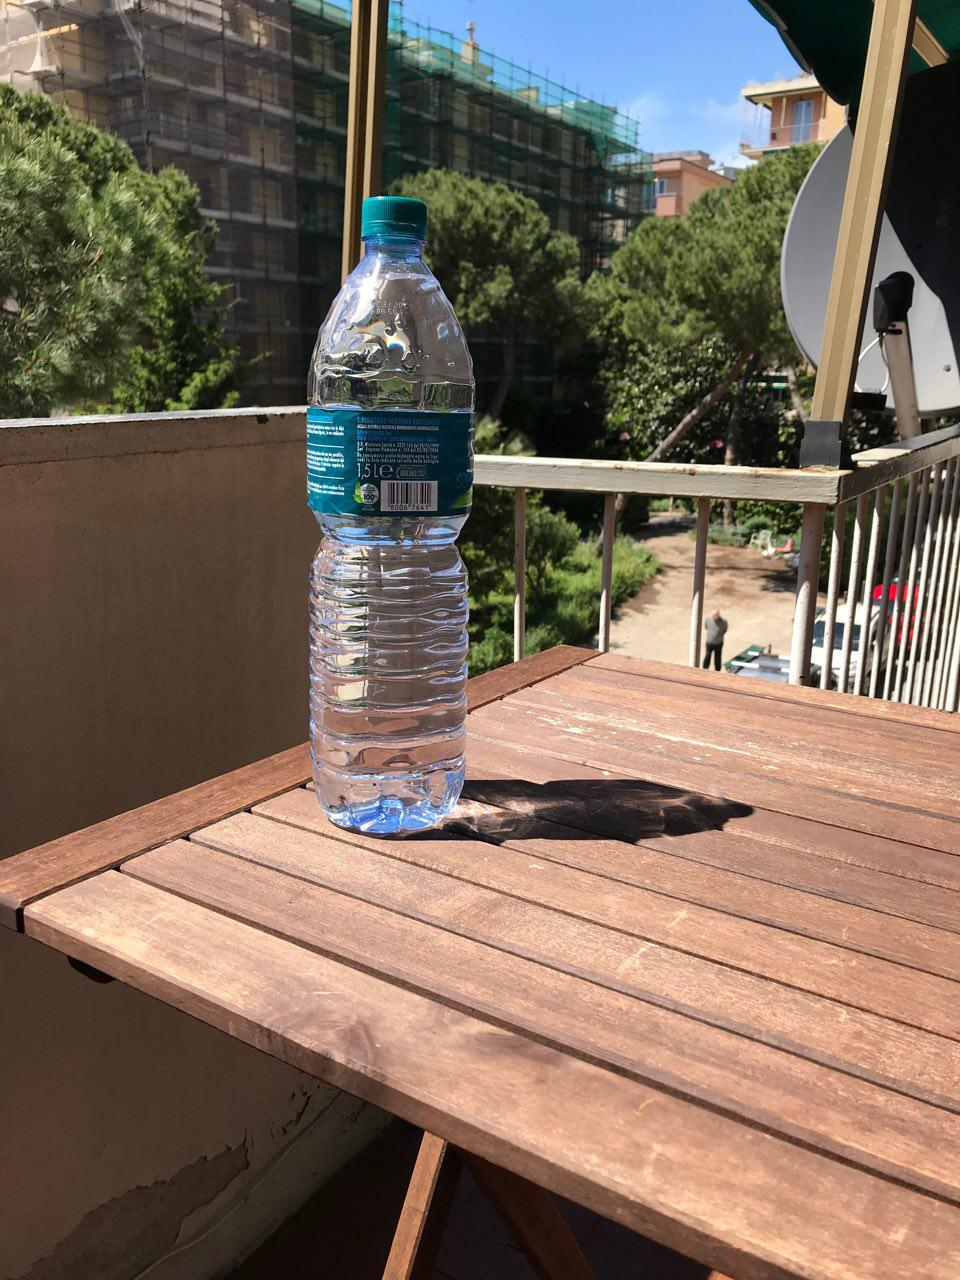san_bernardo: (305, 195, 476, 834)
